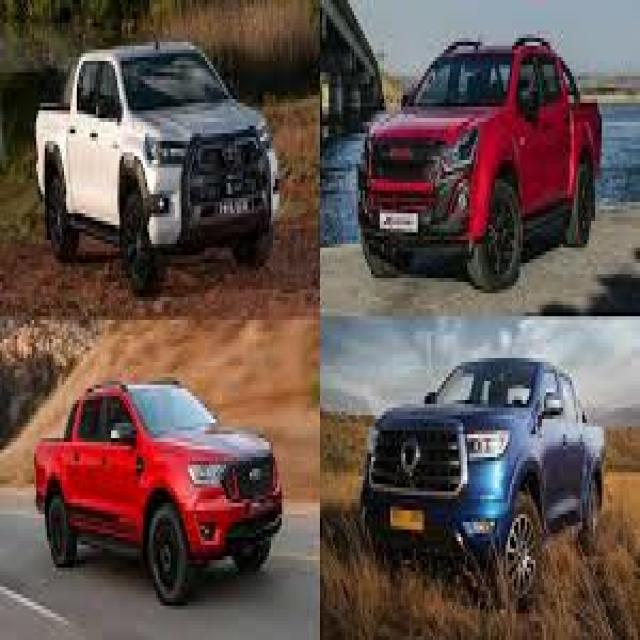Pickup Trucks: (36, 34, 282, 301), (358, 358, 606, 610), (358, 38, 604, 290), (32, 377, 282, 606)
